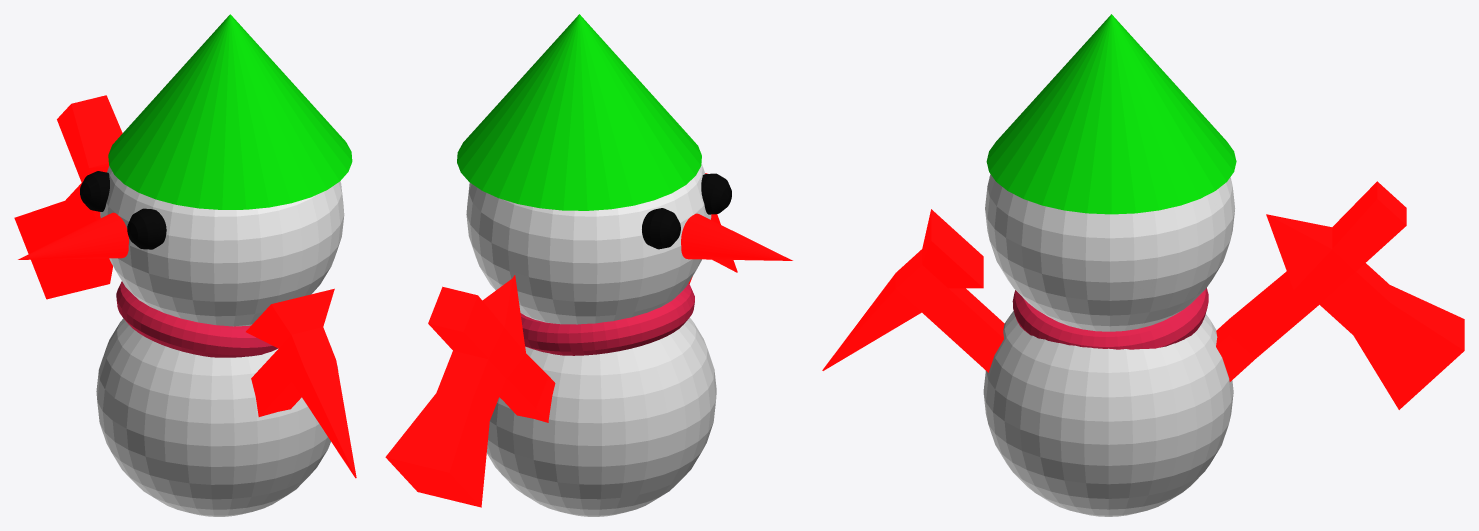
3 views of the same model, side by side, from view 1: azimuth 30°, elevation 25°; view 2: azimuth 150°, elevation 25°; view 3: azimuth 270°, elevation 25° (orthographic). The views are drawn at different scales.
Visible parts, largest first — view 1: 球體, 圓錐體.001, 球體.001, 立方體, Torus.002, 圓錐體, Torus.005, Torus.003; view 2: 球體, 圓錐體.001, 球體.001, 立方體, Torus.002, 圓錐體, Torus.003, Torus.005; view 3: 球體, 立方體, 圓錐體.001, 球體.001, Torus.002.
Boxes of the visible parts, box(x1,y1,x2,y2) form: 球體: box(96, 318, 338, 516); 圓錐體.001: box(108, 14, 352, 209); 球體.001: box(100, 166, 344, 326); 立方體: box(14, 95, 356, 478); Torus.002: box(116, 281, 277, 357); 圓錐體: box(18, 212, 128, 259); Torus.005: box(127, 208, 166, 249); Torus.003: box(80, 171, 109, 211); 球體: box(486, 317, 716, 516); 圓錐體.001: box(457, 14, 701, 210); 球體.001: box(466, 163, 711, 324); 立方體: box(385, 173, 737, 507); Torus.002: box(520, 283, 694, 355); 圓錐體: box(681, 213, 792, 260); Torus.003: box(642, 208, 680, 249); Torus.005: box(701, 173, 731, 214); 球體: box(983, 311, 1233, 516); 立方體: box(822, 181, 1464, 409); 圓錐體.001: box(986, 14, 1236, 214); 球體.001: box(985, 174, 1235, 331); Torus.002: box(1012, 288, 1208, 349).
Bounding box in the file's own units: 3.01 × 4.39 × 5.13.
